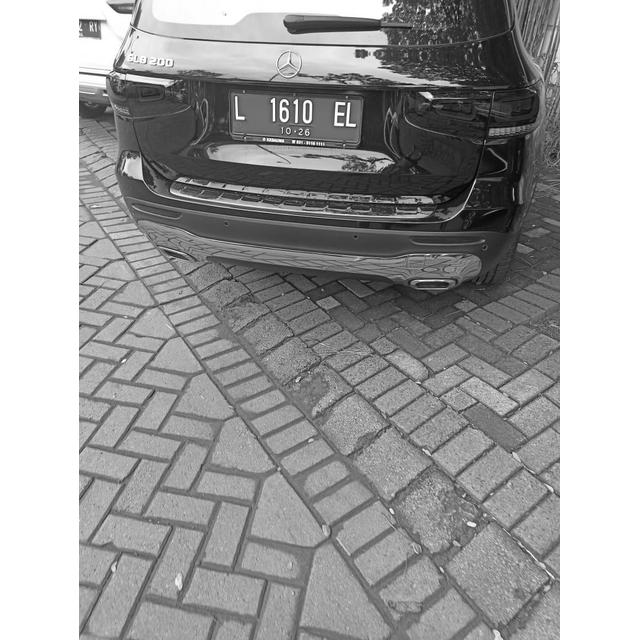license: (232, 94, 358, 139)
